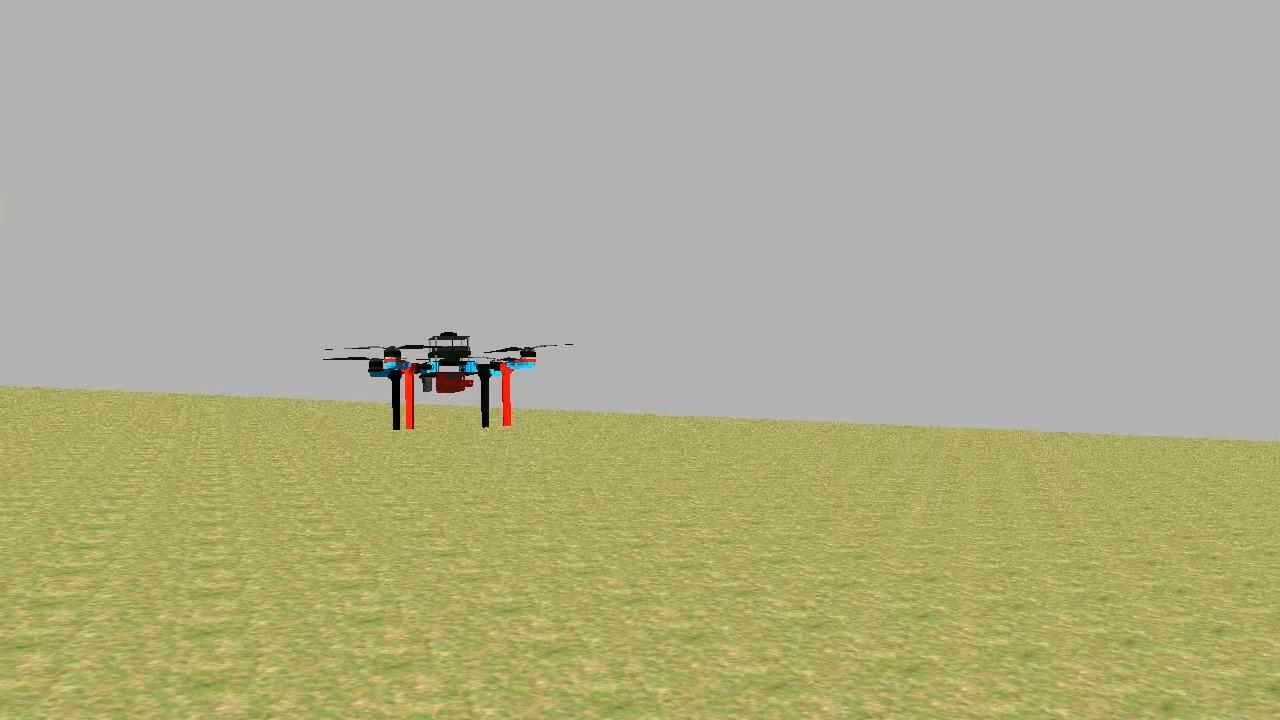UAV: (362, 328, 544, 434)
